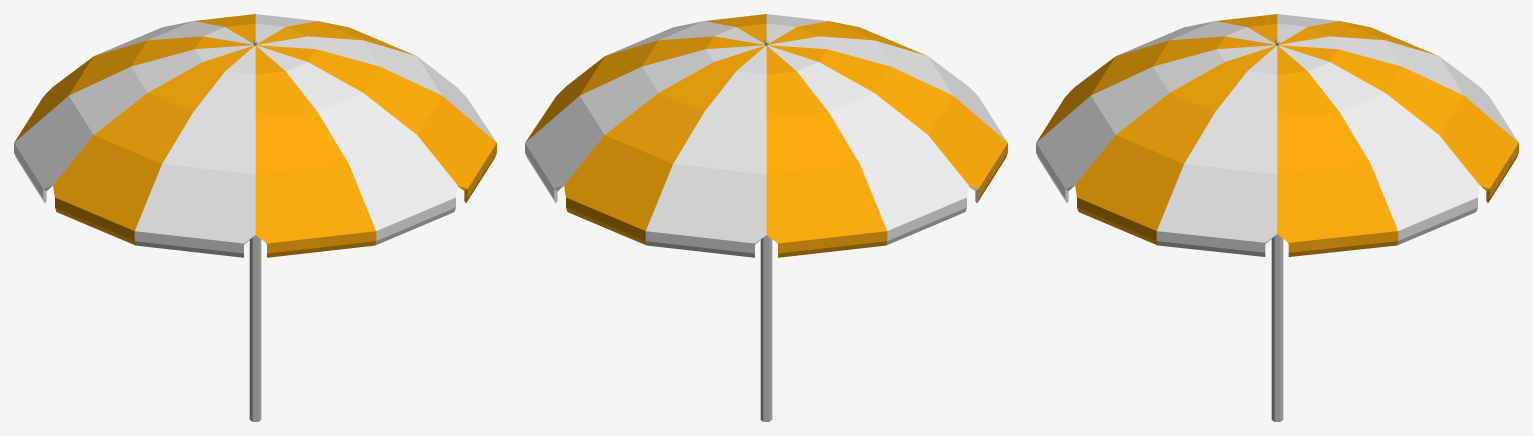
The model's file is Umbrella_07.fbx.
3 views of the same model, side by side, from view 1: azimuth 30°, elevation 25°; view 2: azimuth 150°, elevation 25°; view 3: azimuth 270°, elevation 25° (orthographic).
Visible parts, largest first — view 1: Umbrella_07; view 2: Umbrella_07; view 3: Umbrella_07.
Part boxes in pixels (box(x1,y1,x2,y2)): Umbrella_07: box(14, 14, 496, 421); Umbrella_07: box(525, 14, 1007, 421); Umbrella_07: box(1036, 14, 1518, 421).
Size of the model in its own units: 239 by 212 by 243.
